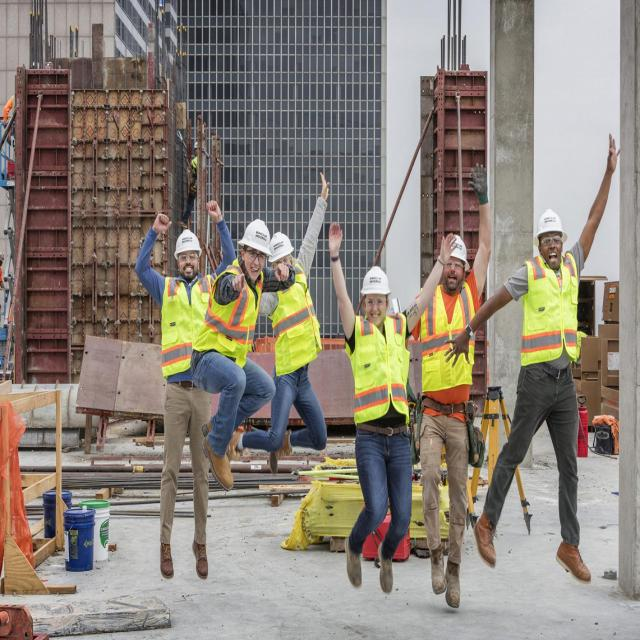Reflective-Jacket: (419, 278, 478, 416), (346, 310, 412, 425), (517, 252, 581, 369), (205, 261, 264, 368), (158, 270, 210, 380), (270, 270, 323, 374)
Safety-Helmet: (238, 215, 272, 255), (534, 203, 568, 239), (361, 261, 392, 296), (442, 230, 470, 266), (173, 225, 203, 258), (268, 228, 295, 264)
